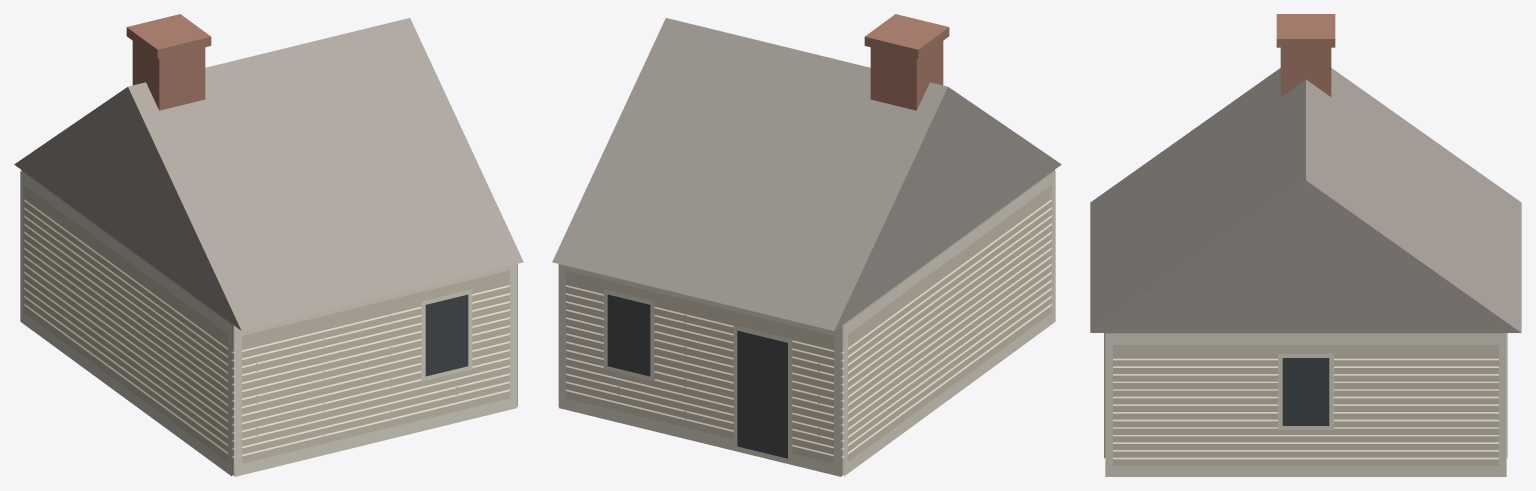
File: recon_1835_blk_randolph_dearborn_d3_11__inferred_1835.glb
The picture shows the model from 3 angles, left to right: view 1: azimuth 30°, elevation 25°; view 2: azimuth 150°, elevation 25°; view 3: azimuth 270°, elevation 25°; orthographic projection. The views are drawn at different scales.
Parts seen in each view (by area): view 1: recon_1835_blk_randolph_dearborn_d3_11__inferred_1835; view 2: recon_1835_blk_randolph_dearborn_d3_11__inferred_1835; view 3: recon_1835_blk_randolph_dearborn_d3_11__inferred_1835.
Part boxes in pixels (x1,y1,x2,y2): recon_1835_blk_randolph_dearborn_d3_11__inferred_1835: [14, 14, 523, 476]; recon_1835_blk_randolph_dearborn_d3_11__inferred_1835: [552, 14, 1061, 476]; recon_1835_blk_randolph_dearborn_d3_11__inferred_1835: [1090, 14, 1521, 476].
Size of the model in its own units: 5.23 by 6.22 by 7.19.
